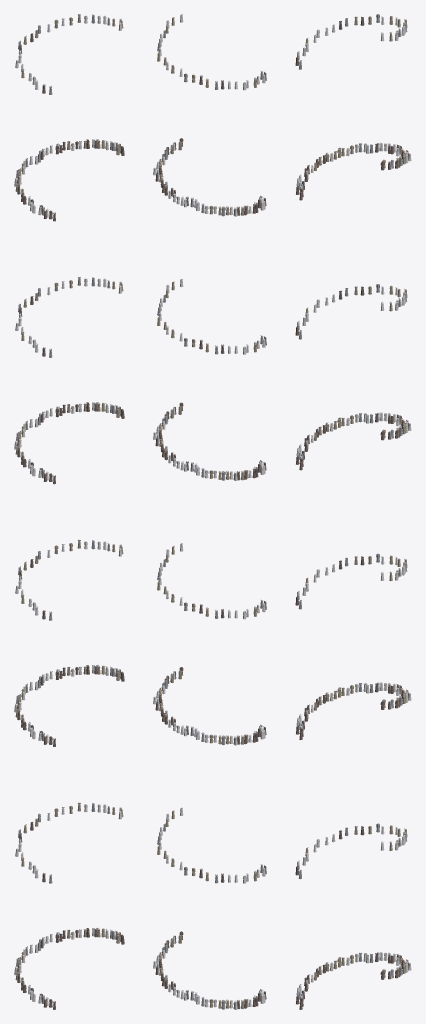
File: Circle1Crowd0.obj
The picture shows the model from 3 angles, left to right: view 1: azimuth 30°, elevation 25°; view 2: azimuth 150°, elevation 25°; view 3: azimuth 330°, elevation 25°; orthographic projection. The views are drawn at different scales.
Visible parts, largest first — view 1: Circle1Crowd0; view 2: Circle1Crowd0; view 3: Circle1Crowd0.
Part boxes in pixels (x1,y1,x2,y2): Circle1Crowd0: (14,14,124,1009); Circle1Crowd0: (153,14,266,1009); Circle1Crowd0: (295,14,411,1009).
Size of the model in its own units: 30.45 by 294 by 25.84.
Materials: 1 (1 with a texture image).
